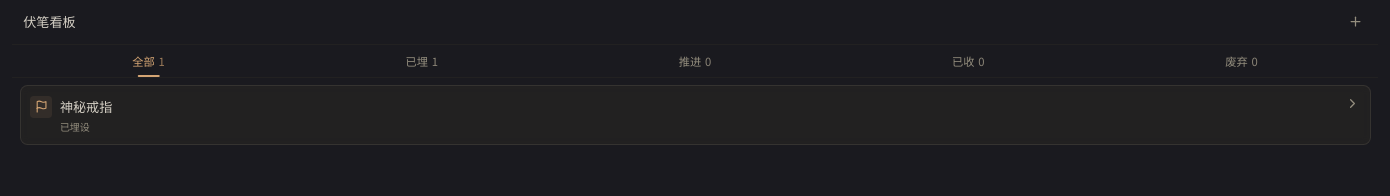
Test: ForeshadowPanel › 点击伏笔卡片展开显示 description
Expected: the text "详细描述内容" is not shown
Click the text "神秘戒指" at (86, 106), box [60,96,112,117]
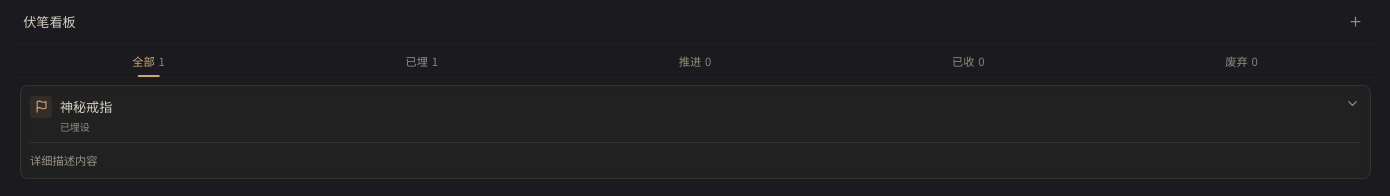
Now the text "详细描述内容" is shown, box [30,142,1360,169]
